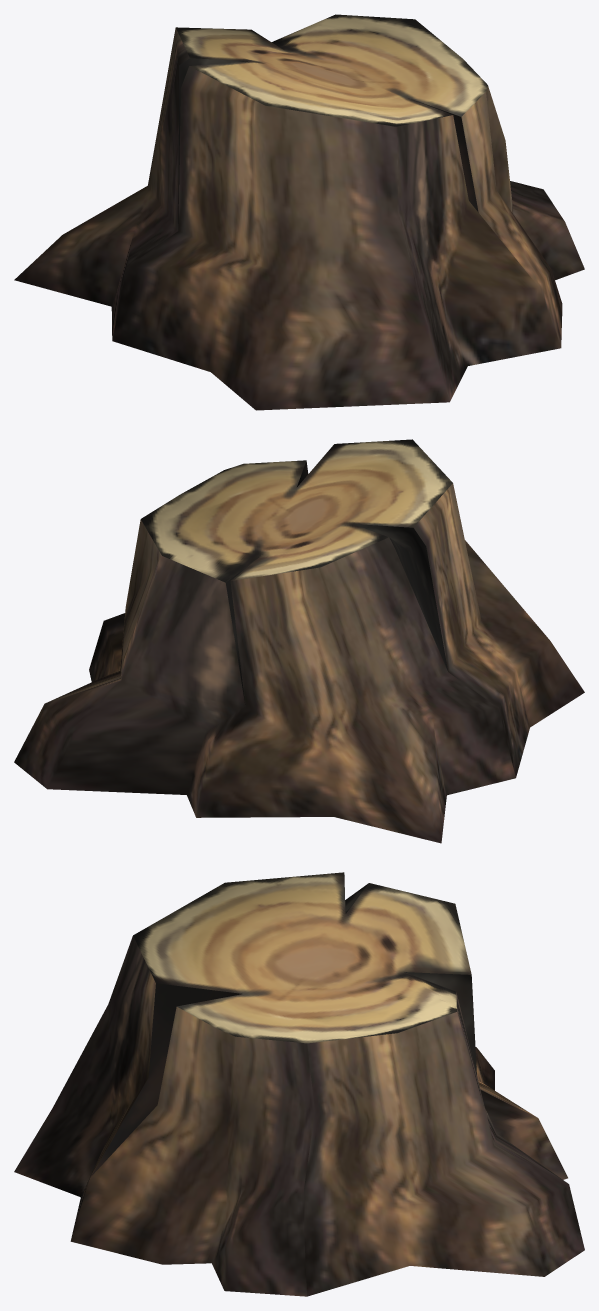
The model's file is BRK_TreeRoot01.FBX.
3 views of the same model, one above another, from view 1: azimuth 30°, elevation 25°; view 2: azimuth 150°, elevation 25°; view 3: azimuth 270°, elevation 25° (orthographic). The views are drawn at different scales.
Parts seen in each view (by area): view 1: BRK_TreeRoot01; view 2: BRK_TreeRoot01; view 3: BRK_TreeRoot01.
Boxes of the visible parts, x1,y1,x2,y2 form: BRK_TreeRoot01: [14, 14, 584, 410]; BRK_TreeRoot01: [14, 439, 584, 843]; BRK_TreeRoot01: [14, 872, 584, 1296].
Bounding box in the file's own units: 393 × 202 × 420.
